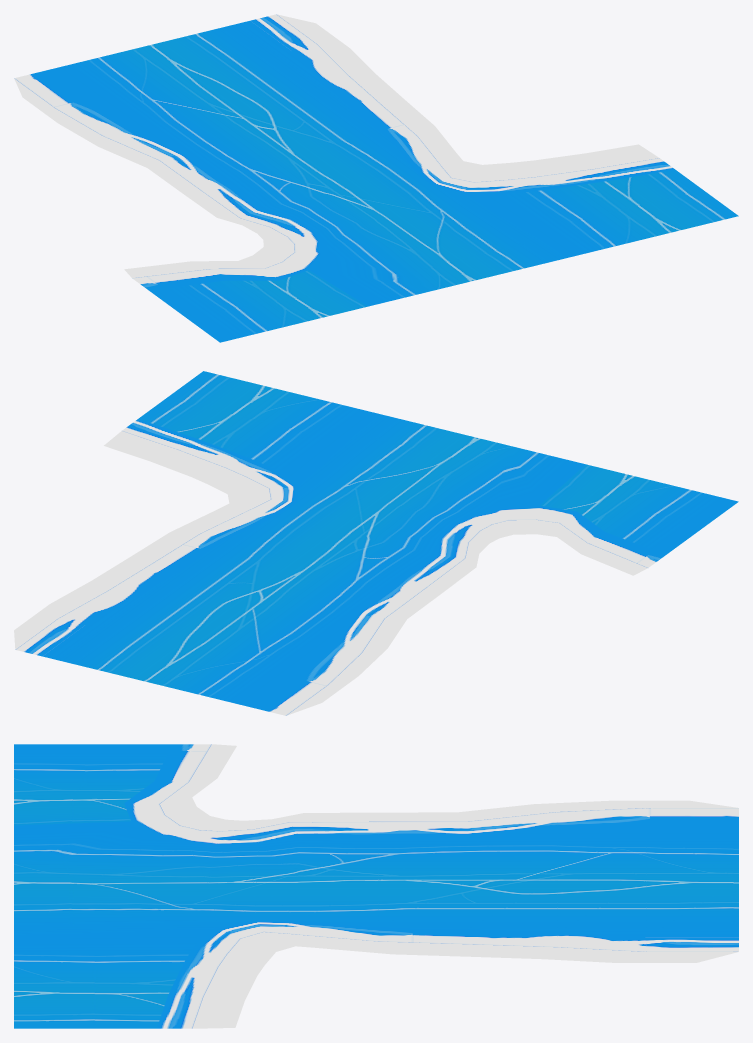
Rendered from SM_Water.FBX.
3 views of the same model, one above another, from view 1: azimuth 30°, elevation 25°; view 2: azimuth 150°, elevation 25°; view 3: azimuth 270°, elevation 25° (orthographic). The views are drawn at different scales.
Parts seen in each view (by area): view 1: Plane002; view 2: Plane002; view 3: Plane002.
Boxes of the visible parts, x1=… form: Plane002: x1=14, y1=14, x2=738, y2=342; Plane002: x1=14, y1=371, x2=738, y2=715; Plane002: x1=14, y1=744, x2=738, y2=1028.
Size of the model in its own units: 4181 by 2.76e-13 by 4500.
Materials: 1 (1 with a texture image).
